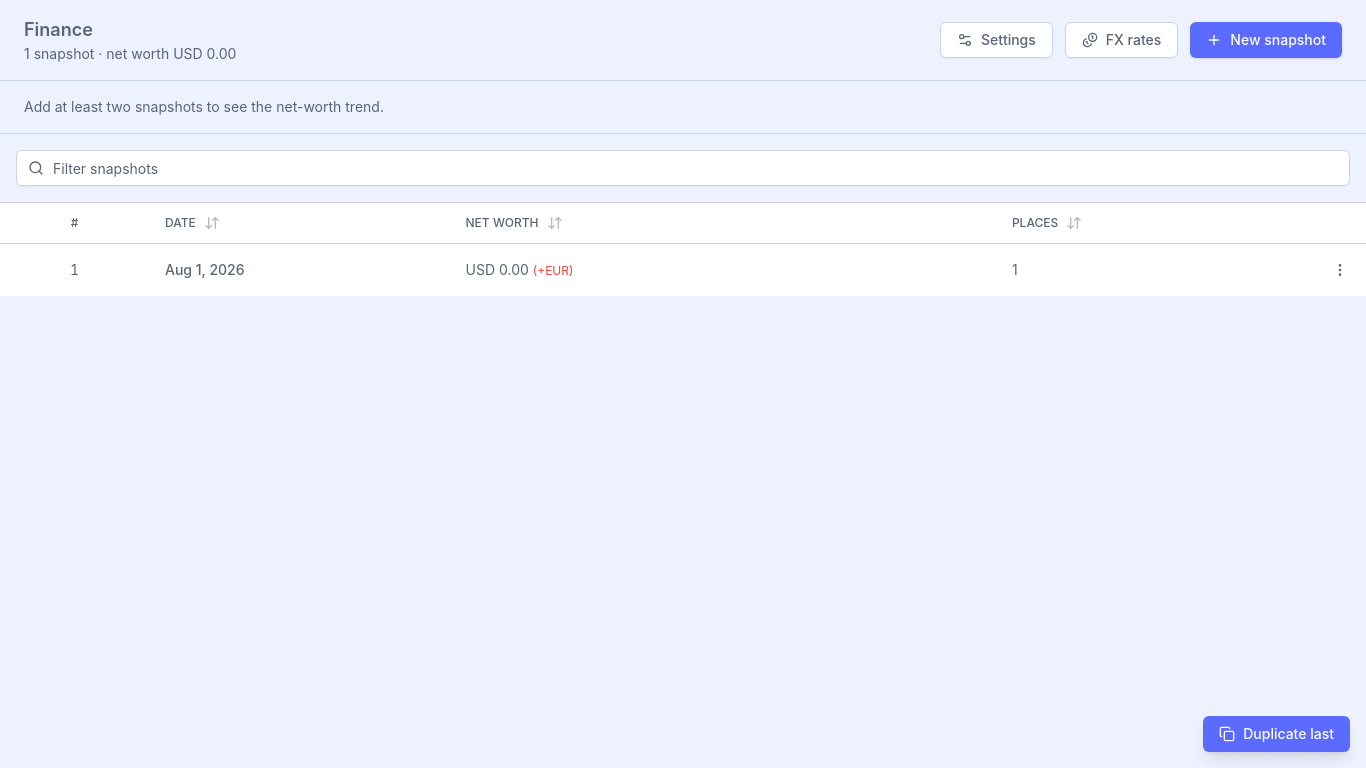
Test case: FinanceListView › shows the detail pane with a missing-rate warning, note, and edit
Click the button named "Actions for snapshot Aug 1, 2026": click(1340, 270) [1322,252,1358,288]
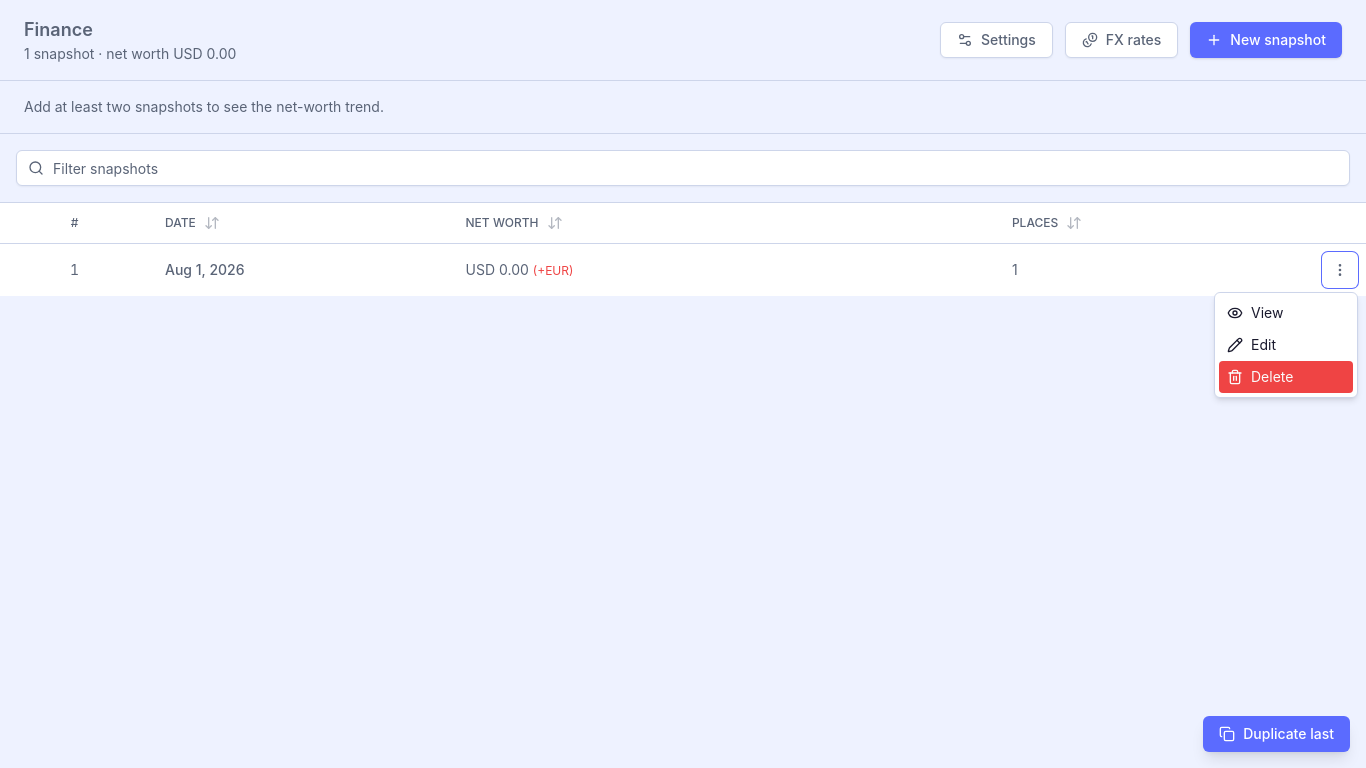
Click the menu item "View": click(1286, 312) [1219,296,1353,328]
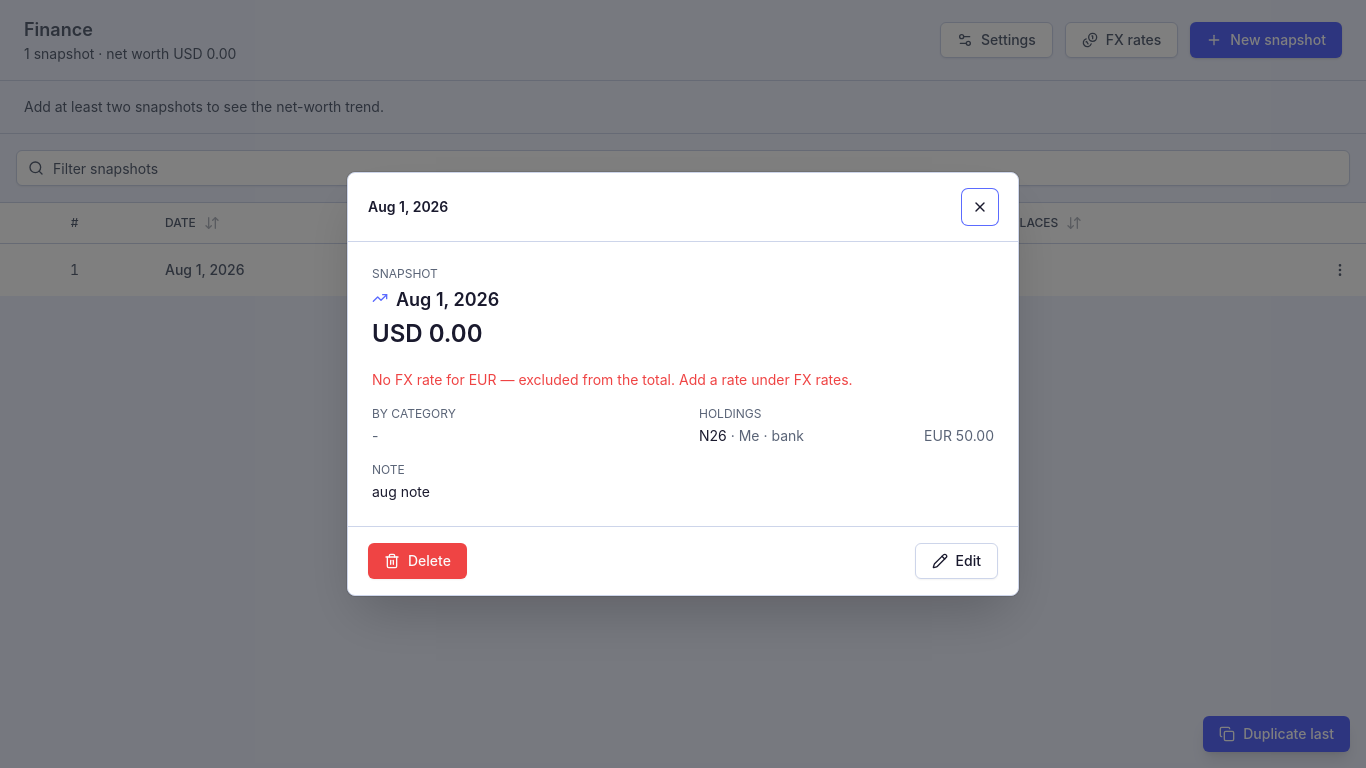
Expected: the text "No FX rate for EUR" is shown, [372,371,853,388]
Expected: the text "aug note" is shown, [372,483,430,500]
Click the button "Edit": click(956, 561) [915,543,998,579]
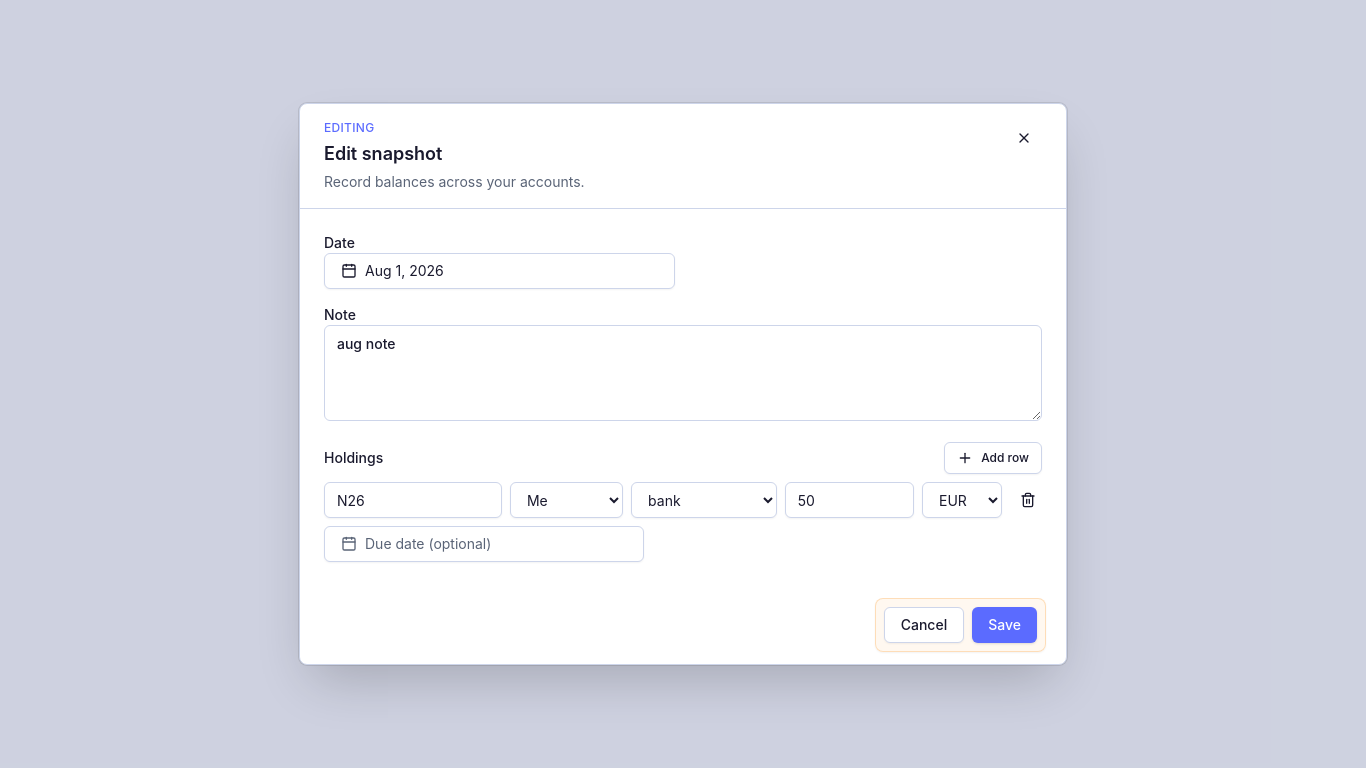
Expected: the heading "Edit snapshot" is shown, [324,143,442,164]
